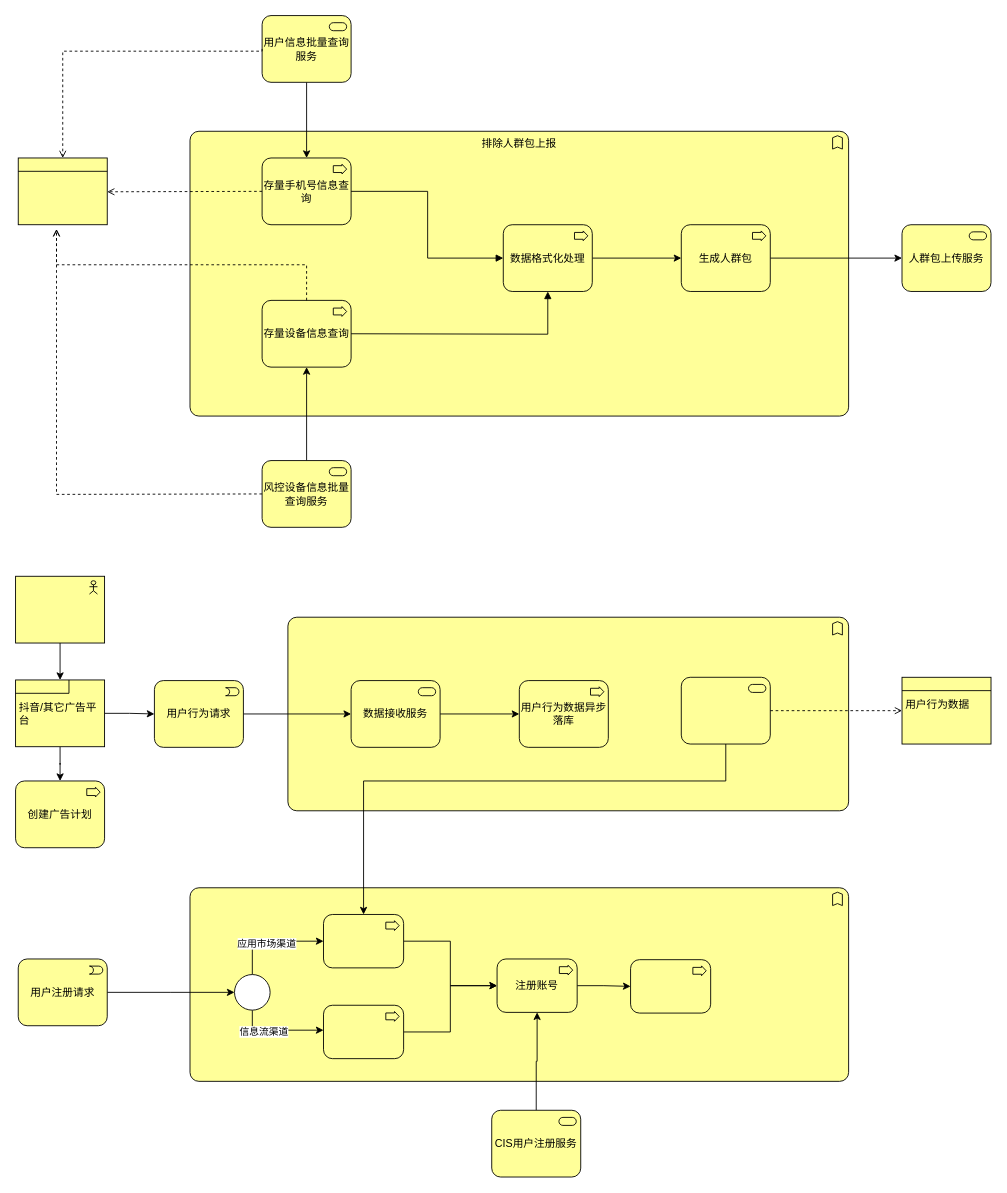
The diagram is 1007 pixels wide and 1193 high, and some of its shapes have lost their labels. Here are the shapes that lost their labels. From the top down, the box of each, then its label:
(17, 157, 107, 225): 用户基础信息
(15, 575, 105, 643): 运营人员
(287, 616, 849, 811): 广告行为数据接收
(680, 676, 770, 744): 用户行为数据查询服务
(323, 914, 404, 968): 改写用户渠道号
(189, 887, 849, 1081): 用户注册服务
(630, 959, 711, 1013): 请求上报
(323, 1004, 404, 1059): 保存用户广告标记数据
